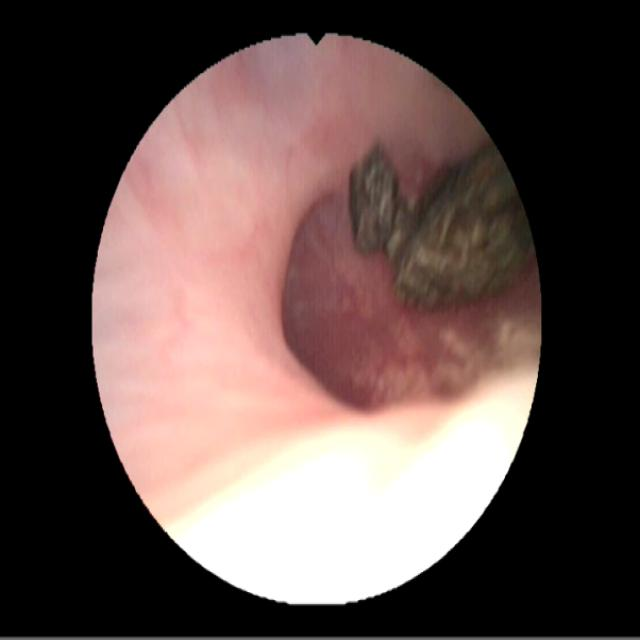stone: (348, 146, 534, 305)
tissue: (101, 41, 531, 516)
